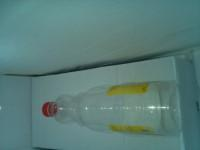bottle: (35, 79, 180, 137)
